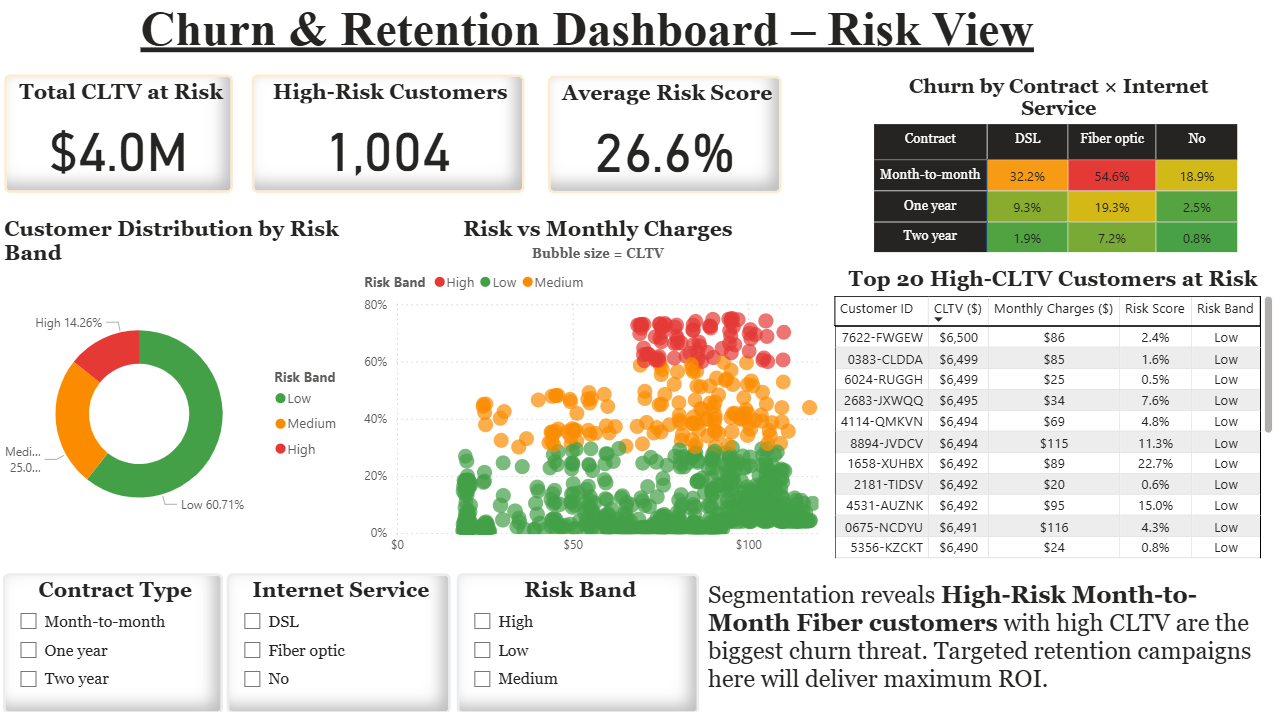

What the dashboard file says about the page in this screenshot:
{"tool":"powerbi","page":{"name":"Risk Segmentation","canvas":[1280,720],"ordinal":2},"visuals":[{"type":"slicer","title":"Contract Type","fields":{"Values":["ibm_telco_scored.contract"]},"box":[5,576.2,220,141.2],"z":0},{"type":"slicer","title":"Internet Service","fields":{"Values":["ibm_telco_scored.internet_service"]},"box":[228.8,576.2,223.8,141.2],"z":1000},{"type":"slicer","title":"Risk Band","fields":{"Values":["ibm_telco_scored.risk_band"]},"box":[458.8,576.2,242.5,141.2],"z":2000},{"type":"donutChart","title":"Customer Distribution by Risk Band","fields":{"Category":["ibm_telco_scored.risk_band"],"Y":["CountNonNull(ibm_telco_scored.customerid)"]},"box":[1.2,220,360,346.2],"z":3000},{"type":"pivotTable","title":"Churn by Contract × Internet Service","fields":{"Rows":["ibm_telco_scored.contract"],"Columns":["ibm_telco_scored.internet_service"],"Values":["ibm_telco_scored.Churn Rate"]},"box":[870.7,77,379.1,193.2],"z":4000},{"type":"scatterChart","title":"Risk vs Monthly Charges ","fields":{"X":["ibm_telco_scored.monthly_charges"],"Y":["ibm_telco_scored.risk_score"],"Series":["ibm_telco_scored.risk_band"],"Size":["ibm_telco_scored.CLTV per Customer"]},"box":[361.2,220,477.5,346.2],"z":5000},{"type":"tableEx","title":"Top 20 High-CLTV Customers at Risk","fields":{"Values":["ibm_telco_scored.customerid","ibm_telco_scored.cltv","ibm_telco_scored.monthly_charges","ibm_telco_scored.risk_score","ibm_telco_scored.risk_band"]},"box":[830,270,450,296.2],"z":6000},{"type":"card","title":"Average Risk Score","fields":{"Values":["ibm_telco_scored.Avg Risk Score"]},"box":[550,78.8,233.8,117.5],"z":7000},{"type":"card","title":"High-Risk Customers","fields":{"Values":["ibm_telco_scored.High Risk Count"]},"box":[253.8,77.5,272.5,118.8],"z":8000},{"type":"card","title":"Total CLTV at Risk","fields":{"Values":["ibm_telco_scored.CLTV at Risk"]},"box":[6.2,77.5,228.8,118.8],"z":9000},{"type":"textbox","box":[137,0,1015,72.1],"z":10000},{"type":"textbox","box":[705,578.8,561.2,128.8],"z":11000}]}

Visuals, with their boxes in screenshot pixels (x1, y1, x2, y2), scaled from the page's 1280x720 canvas onto the 1276x712 screenshot:
"Contract Type" slicer: <region>5, 570, 224, 709</region>
"Internet Service" slicer: <region>228, 570, 451, 709</region>
"Risk Band" slicer: <region>457, 570, 699, 709</region>
"Customer Distribution by Risk Band" donutChart: <region>1, 218, 360, 560</region>
"Churn by Contract × Internet Service" pivotTable: <region>868, 76, 1246, 267</region>
"Risk vs Monthly Charges " scatterChart: <region>360, 218, 836, 560</region>
"Top 20 High-CLTV Customers at Risk" tableEx: <region>827, 267, 1275, 560</region>
"Average Risk Score" card: <region>548, 78, 781, 194</region>
"High-Risk Customers" card: <region>253, 77, 525, 194</region>
"Total CLTV at Risk" card: <region>6, 77, 234, 194</region>
textbox: <region>137, 0, 1148, 71</region>
textbox: <region>703, 572, 1262, 700</region>
